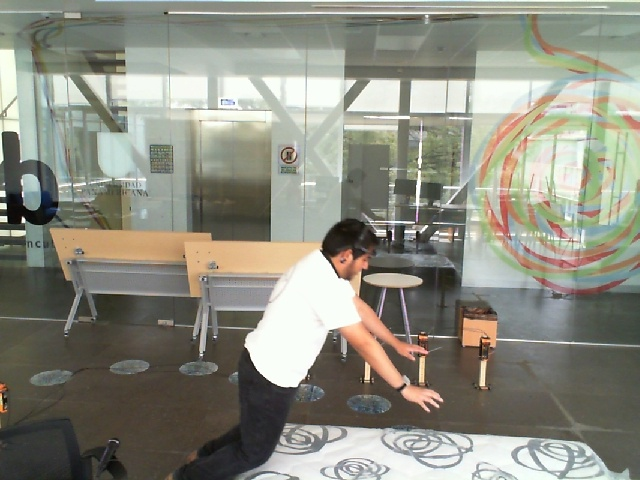fall: (161, 211, 448, 480)
